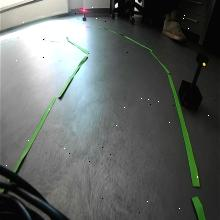green: (195, 51, 210, 68)
